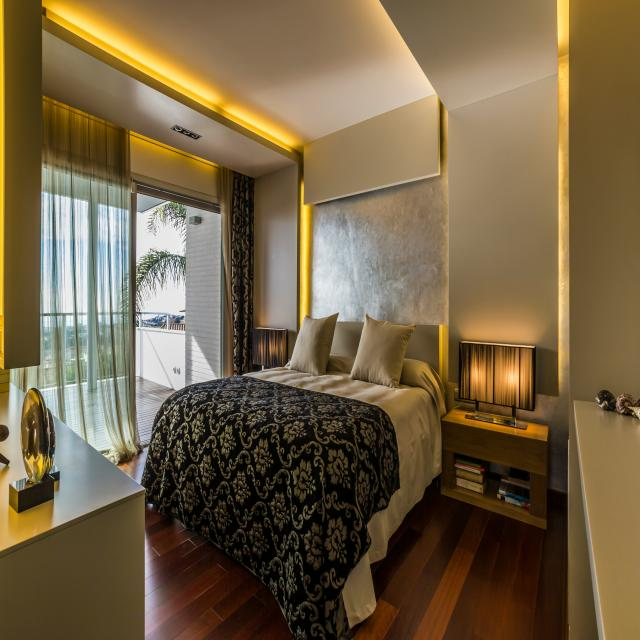floor: (350, 472, 567, 640)
